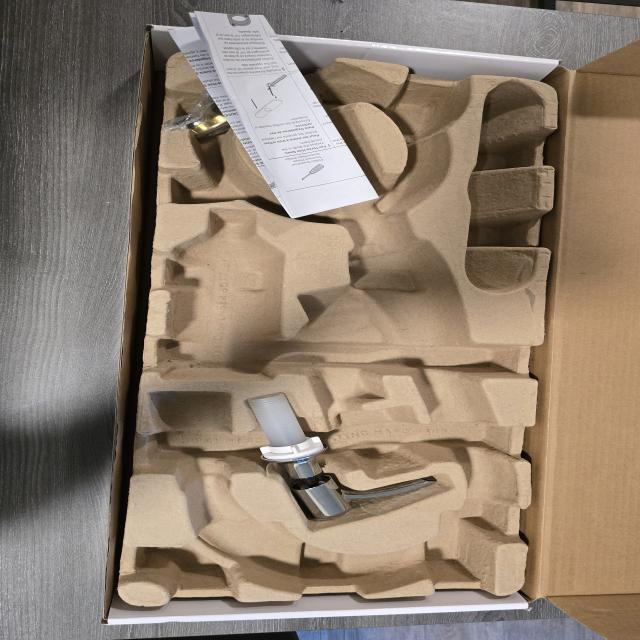1m: (156, 56, 515, 592)
2: (245, 393, 434, 517)
3m: (160, 207, 282, 378)
4m: (466, 81, 547, 293)
5m: (383, 90, 452, 136)
6o: (163, 79, 290, 140)
7m: (166, 150, 317, 214)
8: (163, 12, 383, 219)
